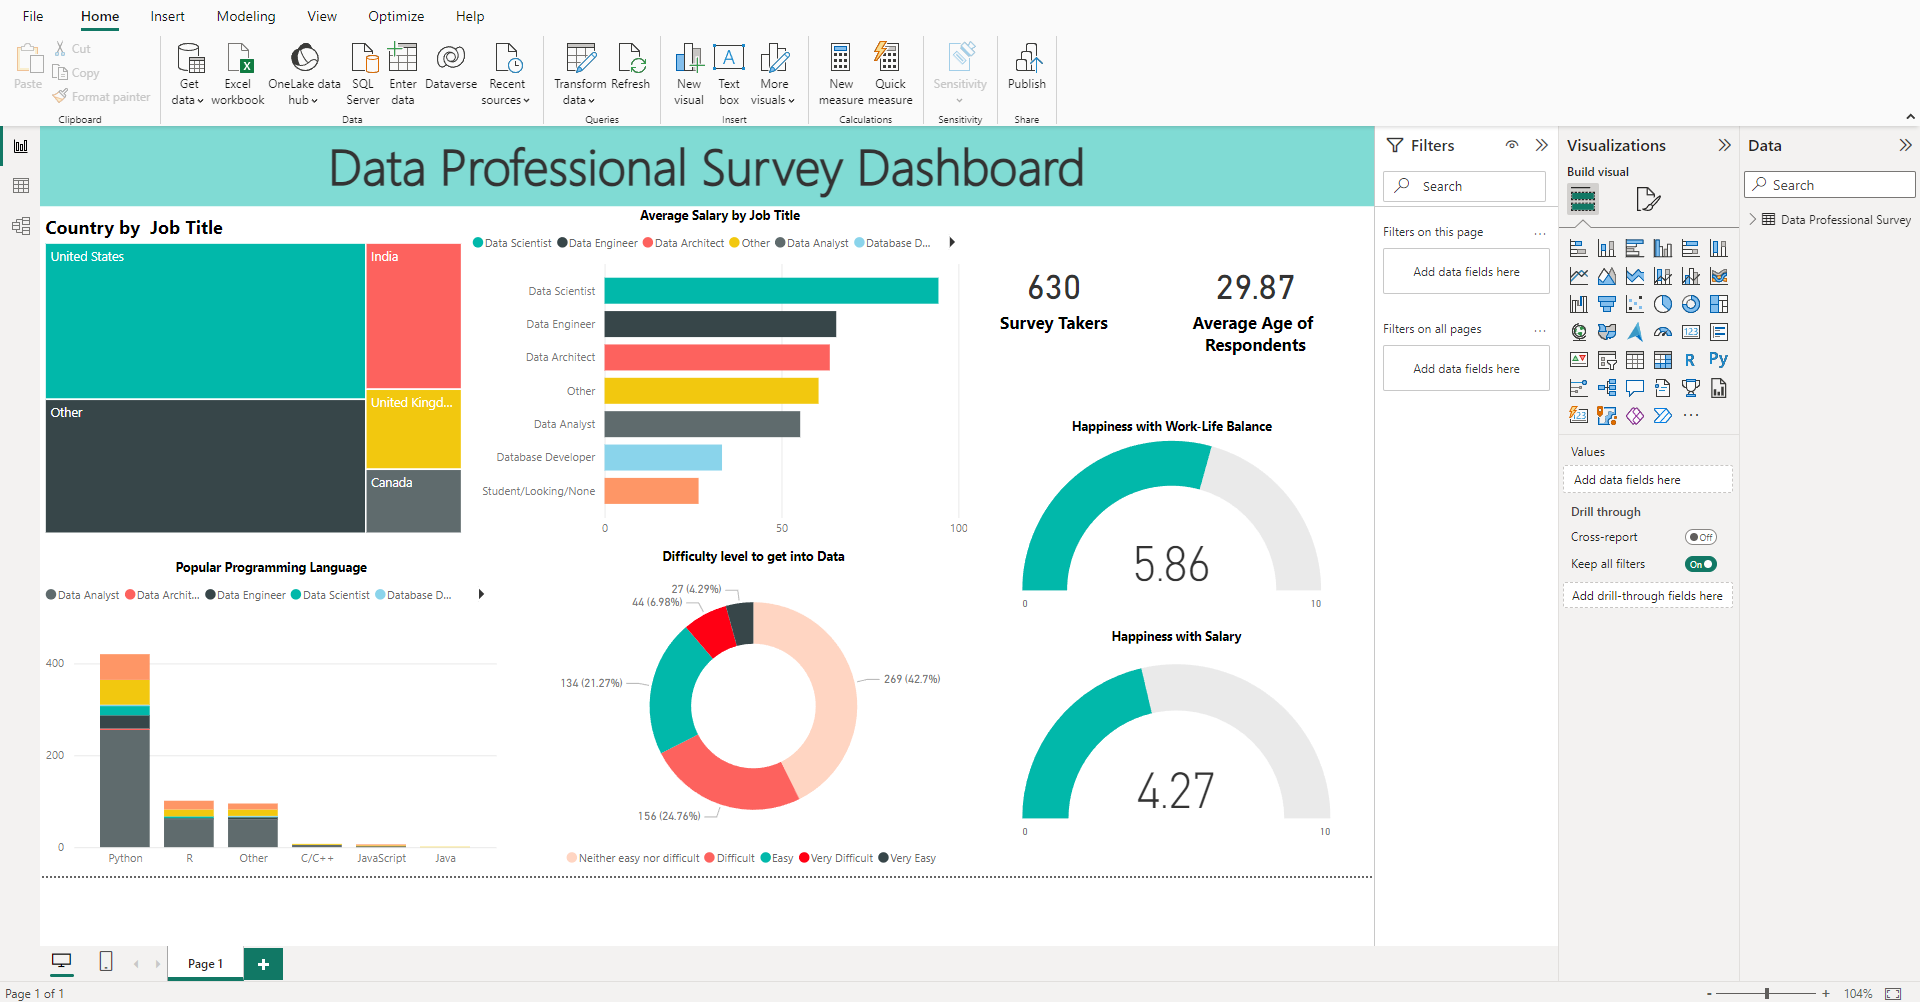

This screenshot's page, from the dashboard's own definition file:
{"tool":"powerbi","page":{"name":"Page 1","canvas":[1280,720],"ordinal":0},"visuals":[{"type":"textbox","box":[0,0,1280,76.8],"z":0},{"type":"card","fields":{"Values":["CountNonNull(Data Professional Survey.Unique ID)"]},"box":[894.6,77.3,156.7,169.4],"z":1000},{"type":"card","fields":{"Values":["Avg(Data Professional Survey.Q10 - Current Age)"]},"box":[1051.3,77.3,228.7,169.4],"z":2000},{"type":"barChart","title":"Average Salary by Job Title","fields":{"Category":["Data Professional Survey.Q1 - Which Title Best Fits your Current Role?.1"],"Y":["Avg(Data Professional Survey.Average Salary)"],"Series":["Data Professional Survey.Q1 - Which Title Best Fits your Current Role?.1"]},"box":[409.6,77,485.4,327],"z":3000},{"type":"columnChart","title":"Popular Programming Language","fields":{"Category":["Data Professional Survey.Q5 - Favorite Programming Language.1"],"Y":["CountNonNull(Data Professional Survey.Unique ID)"],"Series":["Data Professional Survey.Q1 - Which Title Best Fits your Current Role?.1"]},"box":[0,414.1,443.4,306.1],"z":4000},{"type":"treemap","title":"Country by  Job Title","fields":{"Values":["CountNonNull(Data Professional Survey.Q11 - Which Country do you live in?.1)"],"Group":["Data Professional Survey.Q11 - Which Country do you live in?.1"]},"box":[0,84.8,409.6,311.4],"z":5000},{"type":"gauge","title":"Happiness with Work-Life Balance","fields":{"Y":["Avg(Data Professional Survey.Q6 - How Happy are you in your Current Position with the following? (Coworkers))"],"MinValue":["Min(Data Professional Survey.Q6 - How Happy are you in your Current Position with the following? (Coworkers))"],"MaxValue":["Max(Data Professional Survey.Q6 - How Happy are you in your Current Position with the following? (Coworkers))1"]},"box":[937.4,279,296.8,194.2],"z":6000},{"type":"gauge","title":"Happiness with Salary","fields":{"Y":["Avg(Data Professional Survey.Q6 - How Happy are you in your Current Position with the following? (Salary))"],"MinValue":["Min(Data Professional Survey.Q6 - How Happy are you in your Current Position with the following? (Salary))"],"MaxValue":["Max(Data Professional Survey.Q6 - How Happy are you in your Current Position with the following? (Salary))"]},"box":[937.4,481,305.8,224.3],"z":7000},{"type":"donutChart","title":"Difficulty level to get into Data","fields":{"Y":["CountNonNull(Data Professional Survey.Q7 - How difficult was it for you to break into Data?)"],"Category":["Data Professional Survey.Q7 - How difficult was it for you to break into Data?"]},"box":[455.3,404,457.5,315.8],"z":8000}]}

Visuals, with their boxes on the page's 1280x720 design canvas (x1, y1, x2, y2). These are canvas units, not pixel positions in the 1920x1002 screenshot, which may show the page scaled, cropped or inside an application window:
textbox: {"x1": 0, "y1": 0, "x2": 1280, "y2": 77}
card - CountNonNull(Data Professional Survey.Unique ID): {"x1": 895, "y1": 77, "x2": 1051, "y2": 247}
card - Avg(Data Professional Survey.Q10 - Current Age): {"x1": 1051, "y1": 77, "x2": 1280, "y2": 247}
"Average Salary by Job Title" barChart: {"x1": 410, "y1": 77, "x2": 895, "y2": 404}
"Popular Programming Language" columnChart: {"x1": 0, "y1": 414, "x2": 443, "y2": 720}
"Country by  Job Title" treemap: {"x1": 0, "y1": 85, "x2": 410, "y2": 396}
"Happiness with Work-Life Balance" gauge: {"x1": 937, "y1": 279, "x2": 1234, "y2": 473}
"Happiness with Salary" gauge: {"x1": 937, "y1": 481, "x2": 1243, "y2": 705}
"Difficulty level to get into Data" donutChart: {"x1": 455, "y1": 404, "x2": 913, "y2": 720}
